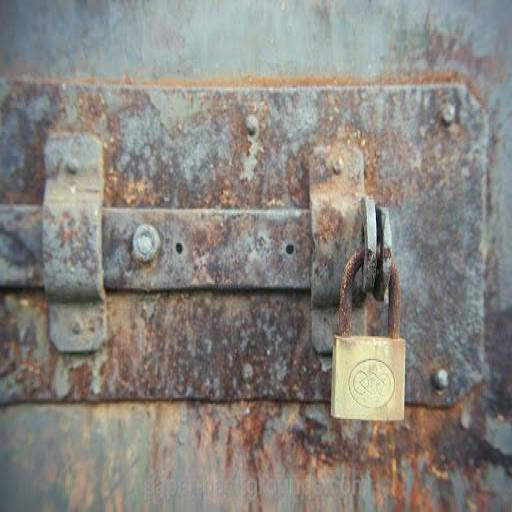corrosion: (1, 84, 489, 404), (0, 290, 330, 402), (104, 209, 310, 288), (406, 333, 475, 406), (333, 247, 365, 335), (389, 276, 402, 335)
